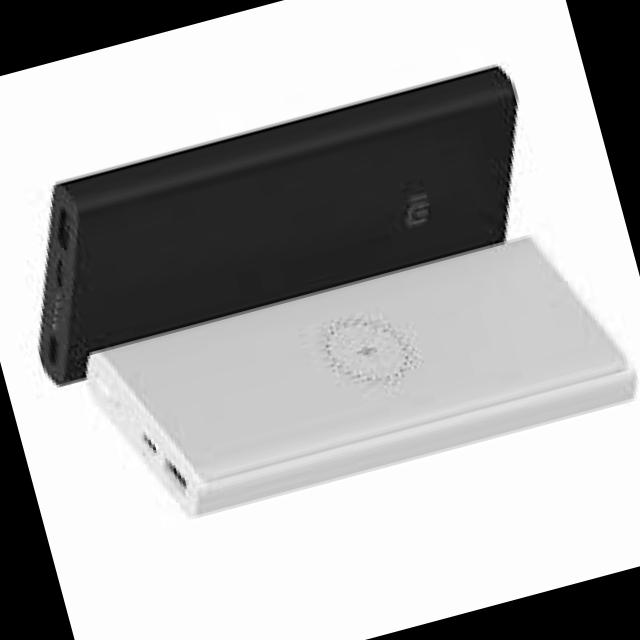power_bank: (0, 54, 562, 395), (77, 216, 640, 534)
